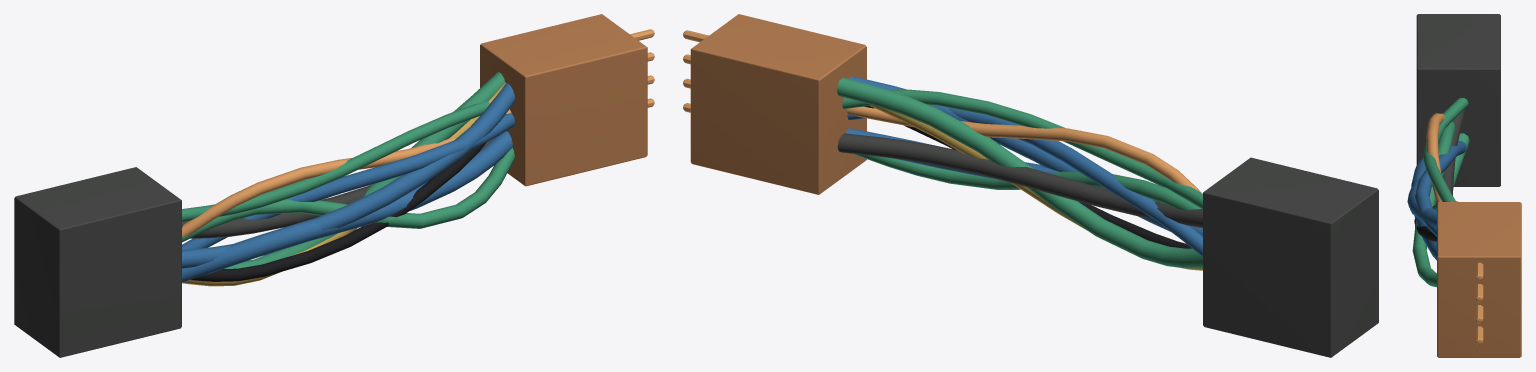
File: Wires.fbx
3 renders of one model, left to right at view 1: azimuth 30°, elevation 25°; view 2: azimuth 150°, elevation 25°; view 3: azimuth 270°, elevation 25°, orthographic. The views are drawn at different scales.
Parts seen in each view (by area): view 1: SM_Wiring_RightConnectorBlock_A, SM_Wiring_BoundedCable_10, SM_Wiring_BoundedCable_2, SM_Wiring_BoundedCable_1, SM_Wiring_BoundedCable_4, SM_Wiring_BoundedCable_9, SM_Wiring_BoundedCable_3, SM_Wiring_BoundedCable_5, SM_Wiring_BoundedCable_8, SM_Wiring_BoundedCable_7, SM_Wiring_BoundedCable_6; view 2: SM_Wiring_RightConnectorBlock_A, SM_Wiring_BoundedCable_8, SM_Wiring_BoundedCable_7, SM_Wiring_BoundedCable_4, SM_Wiring_BoundedCable_5, SM_Wiring_BoundedCable_9, SM_Wiring_BoundedCable_1, SM_Wiring_BoundedCable_2, SM_Wiring_BoundedCable_6, SM_Wiring_BoundedCable_3, SM_Wiring_BoundedCable_10; view 3: SM_Wiring_RightConnectorBlock_A, SM_Wiring_BoundedCable_1, SM_Wiring_BoundedCable_4, SM_Wiring_BoundedCable_9, SM_Wiring_BoundedCable_5, SM_Wiring_BoundedCable_2, SM_Wiring_BoundedCable_7, SM_Wiring_BoundedCable_10, SM_Wiring_BoundedCable_8, SM_Wiring_BoundedCable_3.
Boxes of the visible parts, x1=… form: SM_Wiring_RightConnectorBlock_A: x1=14, y1=14, x2=654, y2=357; SM_Wiring_BoundedCable_10: x1=182, y1=131, x2=512, y2=282; SM_Wiring_BoundedCable_2: x1=182, y1=83, x2=514, y2=268; SM_Wiring_BoundedCable_1: x1=182, y1=148, x2=514, y2=242; SM_Wiring_BoundedCable_4: x1=182, y1=101, x2=489, y2=222; SM_Wiring_BoundedCable_9: x1=182, y1=113, x2=514, y2=249; SM_Wiring_BoundedCable_3: x1=191, y1=142, x2=486, y2=281; SM_Wiring_BoundedCable_5: x1=182, y1=109, x2=511, y2=236; SM_Wiring_BoundedCable_8: x1=224, y1=72, x2=504, y2=268; SM_Wiring_BoundedCable_7: x1=182, y1=137, x2=495, y2=238; SM_Wiring_BoundedCable_6: x1=182, y1=82, x2=505, y2=286; SM_Wiring_RightConnectorBlock_A: x1=683, y1=14, x2=1378, y2=357; SM_Wiring_BoundedCable_8: x1=837, y1=77, x2=1202, y2=268; SM_Wiring_BoundedCable_7: x1=837, y1=133, x2=1202, y2=227; SM_Wiring_BoundedCable_4: x1=842, y1=89, x2=1202, y2=209; SM_Wiring_BoundedCable_5: x1=847, y1=106, x2=1201, y2=192; SM_Wiring_BoundedCable_9: x1=847, y1=107, x2=1202, y2=256; SM_Wiring_BoundedCable_1: x1=852, y1=153, x2=1201, y2=210; SM_Wiring_BoundedCable_2: x1=849, y1=76, x2=1202, y2=235; SM_Wiring_BoundedCable_6: x1=869, y1=104, x2=1202, y2=270; SM_Wiring_BoundedCable_3: x1=864, y1=106, x2=1191, y2=248; SM_Wiring_BoundedCable_10: x1=846, y1=128, x2=1059, y2=179; SM_Wiring_RightConnectorBlock_A: x1=1416, y1=14, x2=1521, y2=357; SM_Wiring_BoundedCable_1: x1=1412, y1=121, x2=1455, y2=287; SM_Wiring_BoundedCable_4: x1=1423, y1=98, x2=1468, y2=201; SM_Wiring_BoundedCable_9: x1=1415, y1=140, x2=1468, y2=236; SM_Wiring_BoundedCable_5: x1=1426, y1=113, x2=1444, y2=202; SM_Wiring_BoundedCable_2: x1=1407, y1=179, x2=1436, y2=227; SM_Wiring_BoundedCable_7: x1=1436, y1=109, x2=1465, y2=203; SM_Wiring_BoundedCable_10: x1=1411, y1=157, x2=1436, y2=260; SM_Wiring_BoundedCable_8: x1=1432, y1=133, x2=1469, y2=210; SM_Wiring_BoundedCable_3: x1=1414, y1=219, x2=1436, y2=241.
Bounding box in the file's own units: 68.99 × 16.56 × 11.78.
